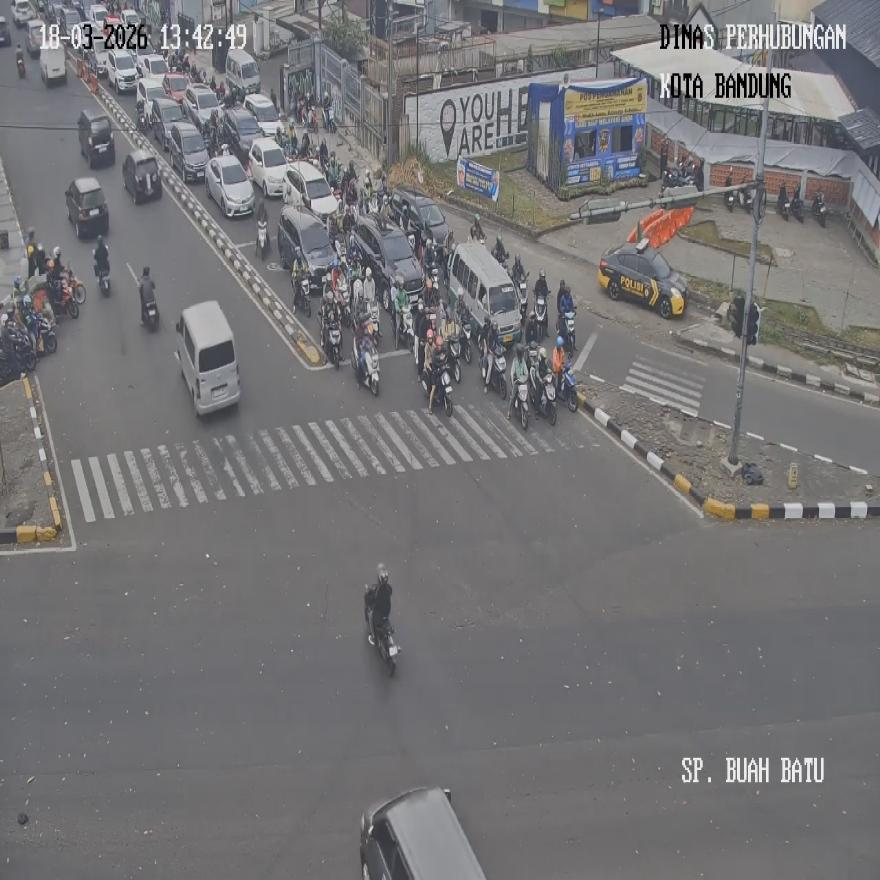Motor: (360, 784, 486, 878), (174, 300, 241, 415), (355, 215, 425, 312)
Truk: (365, 584, 400, 675), (420, 350, 454, 416), (354, 328, 380, 394), (48, 269, 81, 319), (481, 346, 507, 398), (534, 367, 557, 424), (396, 296, 418, 352), (509, 369, 529, 430), (321, 315, 343, 368), (556, 360, 578, 410), (92, 237, 109, 296), (34, 310, 56, 354), (557, 309, 575, 356), (292, 272, 311, 316), (456, 313, 472, 363), (140, 287, 158, 331), (789, 187, 805, 222), (724, 168, 737, 211), (256, 218, 269, 260), (740, 182, 756, 213), (534, 294, 547, 332), (812, 191, 826, 226), (777, 183, 788, 220), (16, 48, 25, 78)
